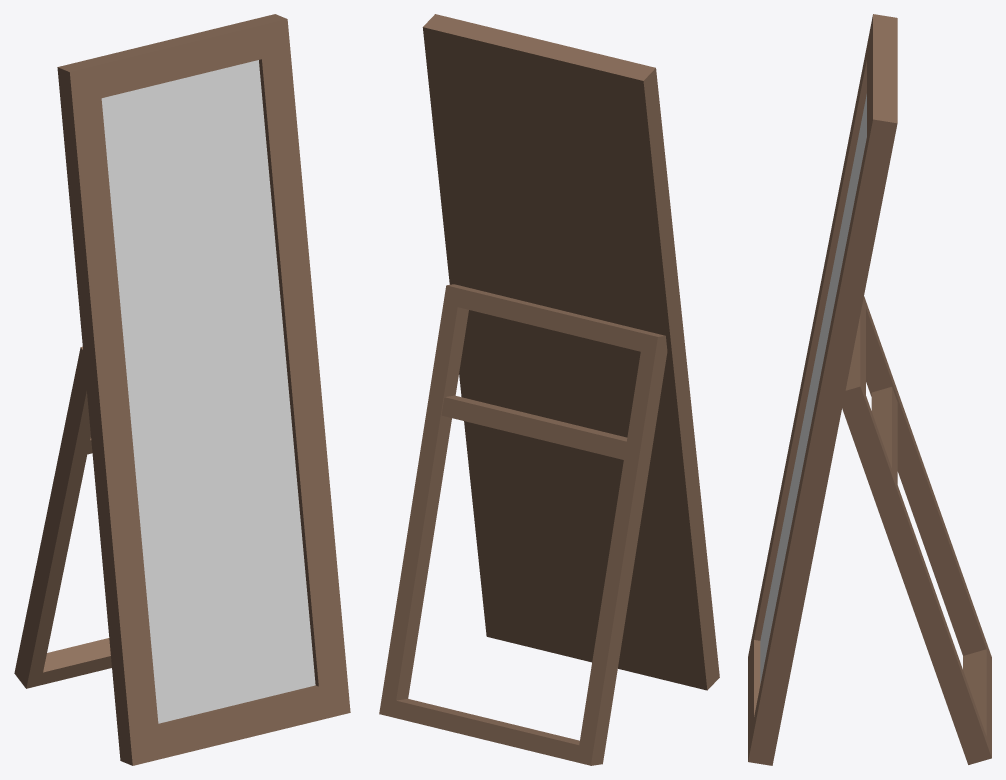
File: BodyMirror_01.fbx
3 renders of one model, left to right at view 1: azimuth 30°, elevation 25°; view 2: azimuth 150°, elevation 25°; view 3: azimuth 270°, elevation 25°, orthographic. The views are drawn at different scales.
Parts seen in each view (by area): view 1: BodyMirror_01; view 2: BodyMirror_01; view 3: BodyMirror_01.
Part boxes in pixels (x1=…): BodyMirror_01: x1=14, y1=14, x2=350, y2=765; BodyMirror_01: x1=379, y1=14, x2=719, y2=765; BodyMirror_01: x1=748, y1=14, x2=991, y2=765.
Bounding box in the file's own units: 0.6217 × 1.78 × 0.6074.
